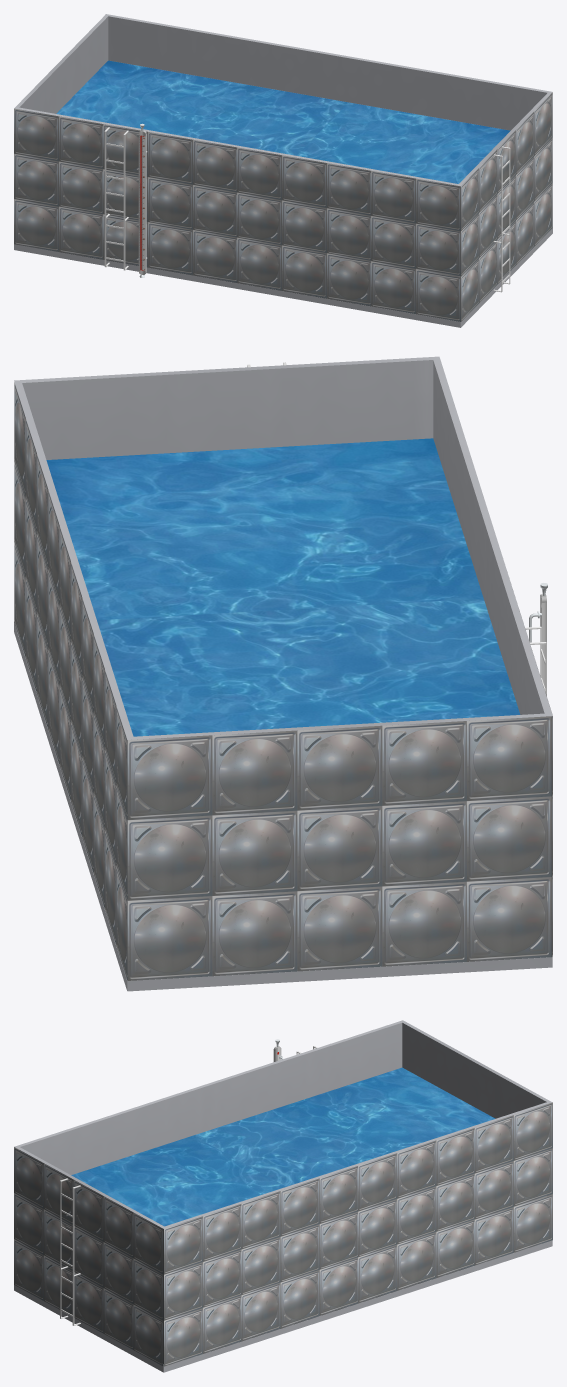
3 renders of one model, top to bottom at view 1: azimuth 30°, elevation 25°; view 2: azimuth 150°, elevation 25°; view 3: azimuth 270°, elevation 25°, orthographic. The views are drawn at different scales.
Visible parts, largest first — view 1: 水箱-贴片04, 水箱-框架, 水箱-水面位置, 水箱-贴片02, 水箱-水尺条, 水箱-爬梯01, 水箱-爬梯02; view 2: 水箱-水面位置, 水箱-贴片01, 水箱-框架, 水箱-贴片03; view 3: 水箱-贴片03, 水箱-框架, 水箱-水面位置, 水箱-贴片02, 水箱-爬梯02.
Part boxes in pixels (x1=…): 水箱-贴片04: x1=14, y1=108, x2=460, y2=321; 水箱-框架: x1=14, y1=14, x2=552, y2=327; 水箱-水面位置: x1=56, y1=60, x2=510, y2=183; 水箱-贴片02: x1=461, y1=92, x2=552, y2=321; 水箱-水尺条: x1=138, y1=130, x2=146, y2=274; 水箱-爬梯01: x1=104, y1=127, x2=128, y2=270; 水箱-爬梯02: x1=493, y1=146, x2=510, y2=292; 水箱-水面位置: x1=46, y1=438, x2=520, y2=736; 水箱-贴片01: x1=127, y1=716, x2=552, y2=980; 水箱-框架: x1=14, y1=356, x2=552, y2=991; 水箱-贴片03: x1=14, y1=382, x2=127, y2=980; 水箱-贴片03: x1=164, y1=1102, x2=552, y2=1366; 水箱-框架: x1=14, y1=1020, x2=552, y2=1372; 水箱-水面位置: x1=71, y1=1067, x2=495, y2=1226; 水箱-贴片02: x1=14, y1=1147, x2=163, y2=1366; 水箱-爬梯02: x1=60, y1=1178, x2=80, y2=1325.
Bounding box in the file's own units: 13.67 × 4.78 × 14.91.
Materials: 8 (5 with a texture image).
